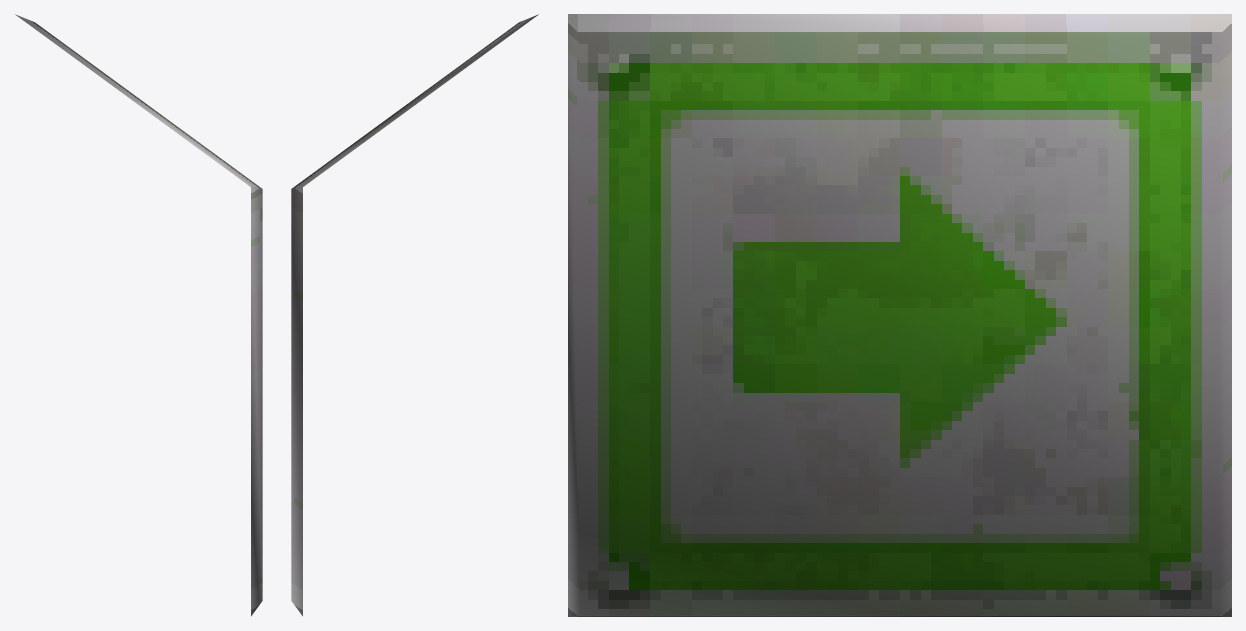
File: Sign_Go_Right.glb
3 views of the same model, side by side, from view 1: azimuth 30°, elevation 25°; view 2: azimuth 150°, elevation 25°; view 3: azimuth 270°, elevation 25° (orthographic). The views are drawn at different scales.
Parts seen in each view (by area): view 1: SIGN_GO_RIGHT; view 2: SIGN_GO_RIGHT; view 3: SIGN_GO_RIGHT.
Boxes of the visible parts, bbox=[...] form: SIGN_GO_RIGHT: bbox=[15, 14, 262, 616]; SIGN_GO_RIGHT: bbox=[291, 14, 538, 616]; SIGN_GO_RIGHT: bbox=[568, 14, 1231, 616].
Size of the model in its own units: 0.017 by 0.429 by 0.428.
1 material, 1 textured.
